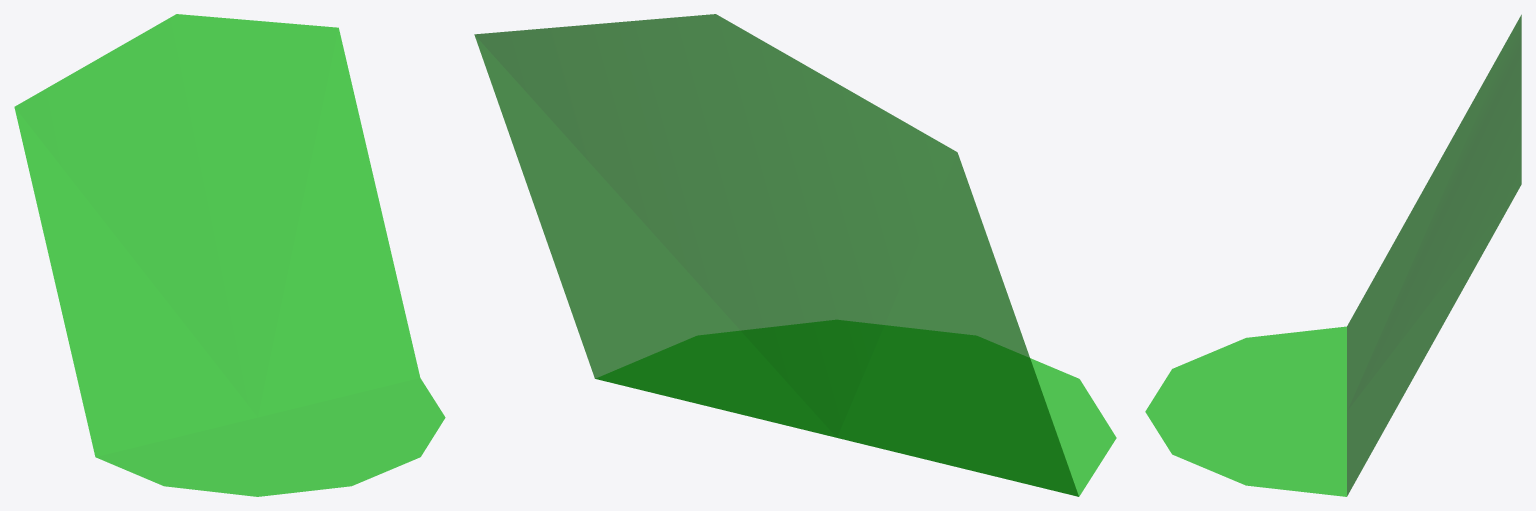
The model's file is dummy_ice2.gltf.
3 views of the same model, side by side, from view 1: azimuth 30°, elevation 25°; view 2: azimuth 150°, elevation 25°; view 3: azimuth 270°, elevation 25° (orthographic). The views are drawn at different scales.
Parts seen in each view (by area): view 1: dummy_ice2; view 2: dummy_ice2; view 3: dummy_ice2.
Part boxes in pixels (x1,y1,x2,y2): dummy_ice2: (14, 14, 445, 496); dummy_ice2: (474, 14, 1116, 496); dummy_ice2: (1145, 14, 1521, 496).
Bounding box in the file's own units: 0.2744 × 0.2776 × 0.2561.
